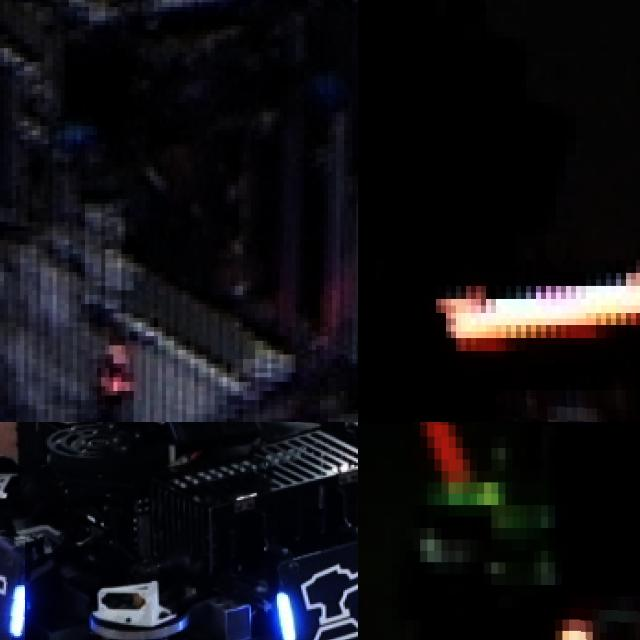Bs: (275, 556, 358, 640), (0, 535, 24, 640)
R2: (496, 390, 640, 422)
Rs: (569, 596, 640, 640)
